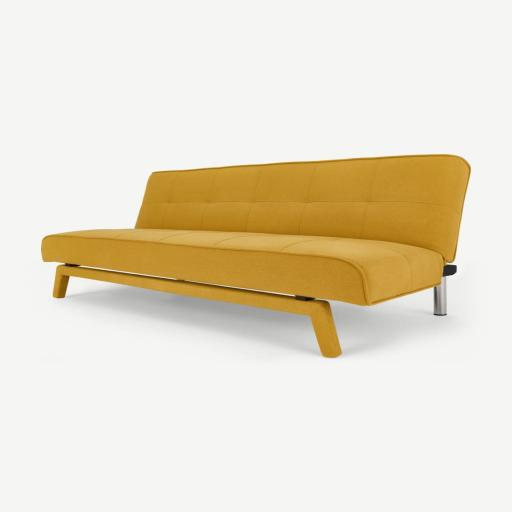back_cushion: (136, 155, 469, 259)
legs: (53, 264, 342, 358), (433, 265, 456, 316)
seat_cushion: (42, 229, 443, 305)
two-seater: (0, 0, 511, 512)
